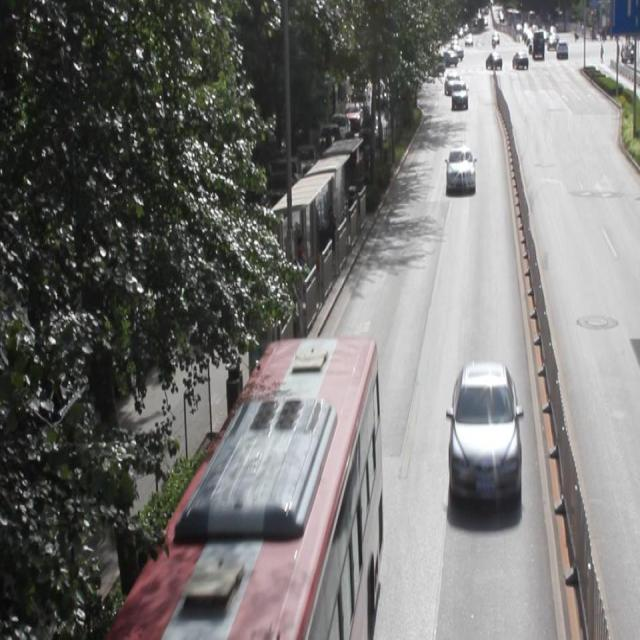car: (448, 359, 519, 505), (445, 145, 475, 193)
van: (112, 335, 380, 640)
